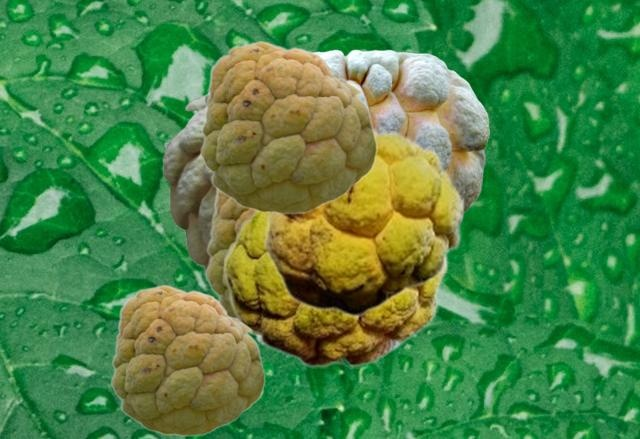atis: (263, 125, 464, 316), (222, 211, 448, 367), (314, 49, 488, 225), (199, 40, 376, 213), (110, 284, 264, 435), (162, 92, 213, 270), (204, 189, 257, 338)
